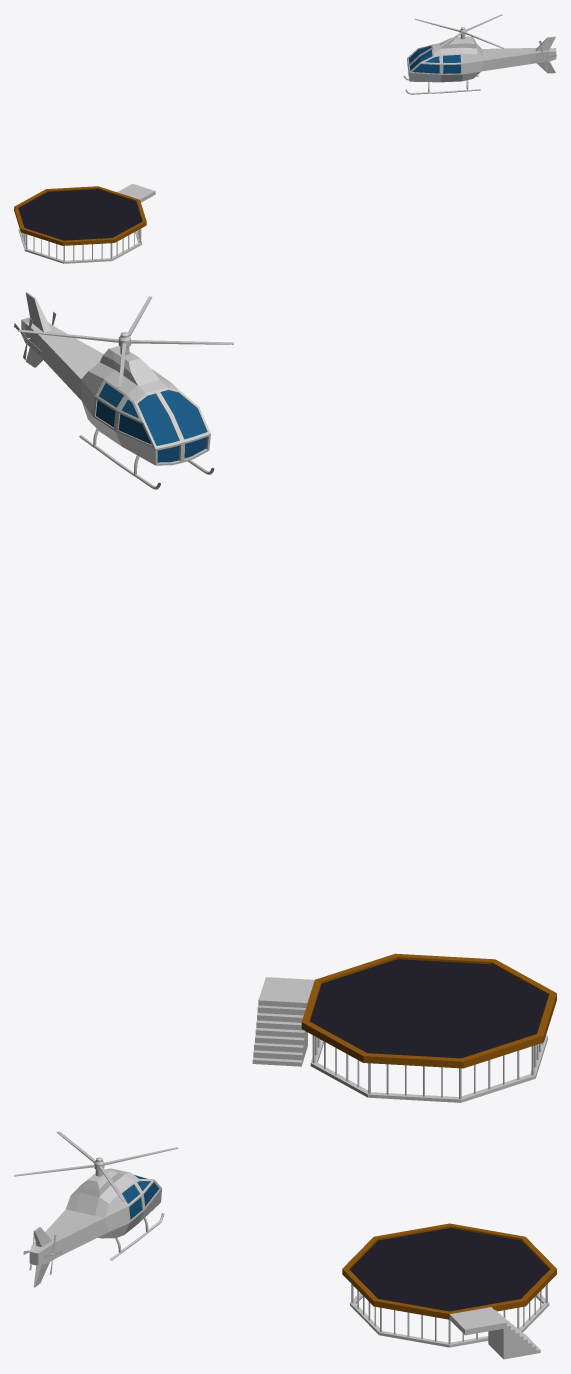
The model's file is copter_000144.obj.
3 views of the same model, one above another, from view 1: azimuth 30°, elevation 25°; view 2: azimuth 150°, elevation 25°; view 3: azimuth 270°, elevation 25° (orthographic). The views are drawn at different scales.
Visible parts, largest first — view 1: Cylinder.001_Cylinder.012, Helicopter.007_Cylinder.008, Helicopter.001_Cylinder.001; view 2: Cylinder.001_Cylinder.012, Helicopter.007_Cylinder.008, Helicopter.001_Cylinder.001; view 3: Cylinder.001_Cylinder.012, Helicopter.007_Cylinder.008, Helicopter.001_Cylinder.001, Cylinder.004, Cylinder.002.
Part boxes in pixels (box(x1,y1,x2,y2)): Cylinder.001_Cylinder.012: box(14, 183, 155, 263); Helicopter.007_Cylinder.008: box(403, 36, 556, 94); Helicopter.001_Cylinder.001: box(415, 14, 504, 52); Cylinder.001_Cylinder.012: box(252, 953, 556, 1102); Helicopter.007_Cylinder.008: box(21, 292, 214, 489); Helicopter.001_Cylinder.001: box(18, 296, 233, 387); Cylinder.001_Cylinder.012: box(342, 1223, 556, 1359); Helicopter.007_Cylinder.008: box(29, 1168, 164, 1287); Helicopter.001_Cylinder.001: box(14, 1131, 178, 1201); Cylinder.004: box(357, 1290, 541, 1326); Cylinder.002: box(351, 1284, 547, 1344).
Size of the model in its own units: 23.05 by 12.31 by 17.12.
